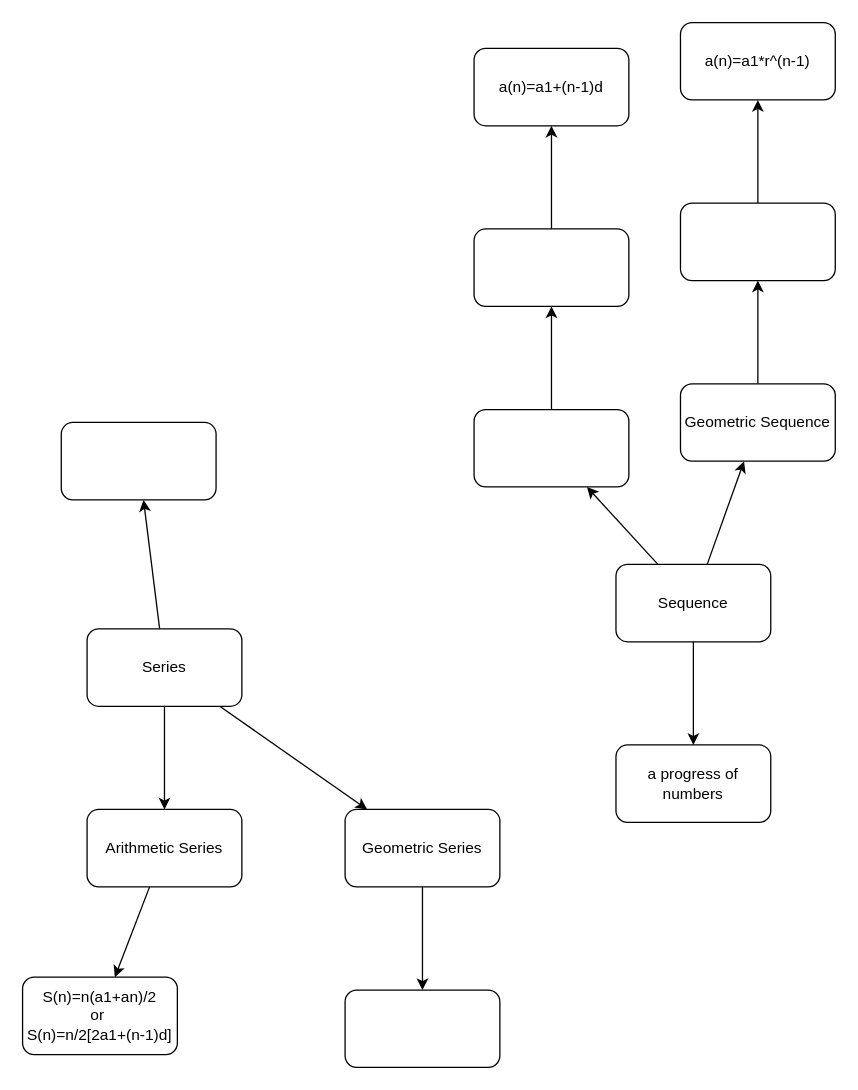
This 858x1090 diagram has some shape labels left out. The shapes that lost their labels are listed below. From the top down, each one's box as (x1, y1, x2, y2) in pixels, then its label:
(679, 202, 835, 281): increases by multiplication of a number every term
(473, 228, 629, 306): increases by constant numbers every term
(60, 421, 216, 500): sum of Sequence
(473, 408, 629, 487): Arithmetic Sequence
(344, 989, 500, 1067): S(n)=a1(1-r^n)/1-r
